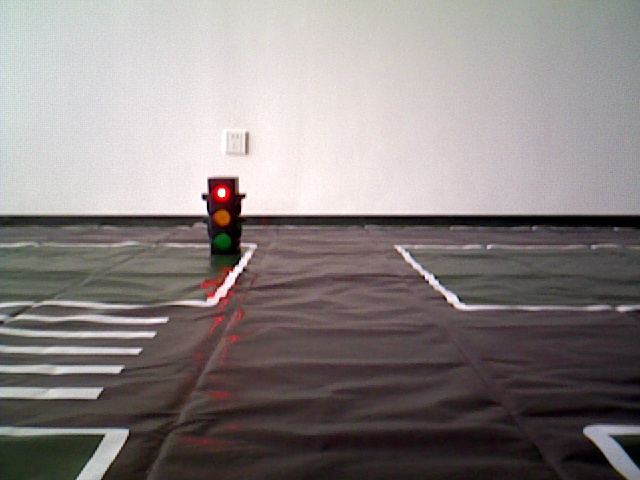red: (208, 179, 235, 257)
